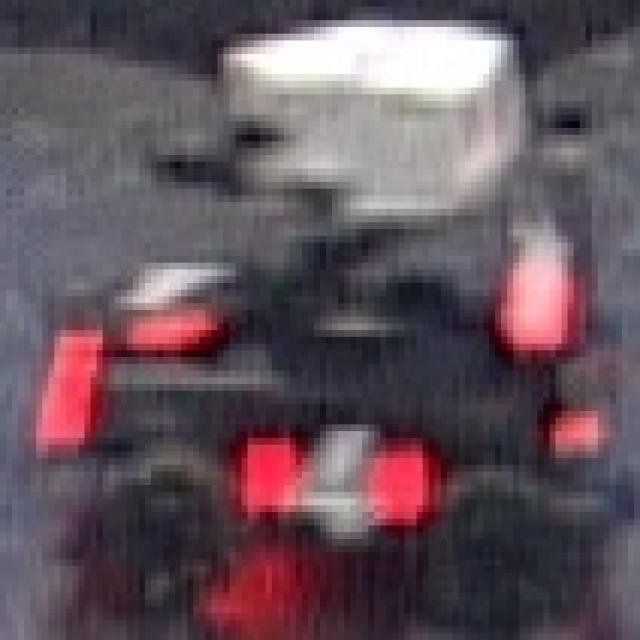R4: (223, 401, 447, 556), (84, 233, 230, 367)
